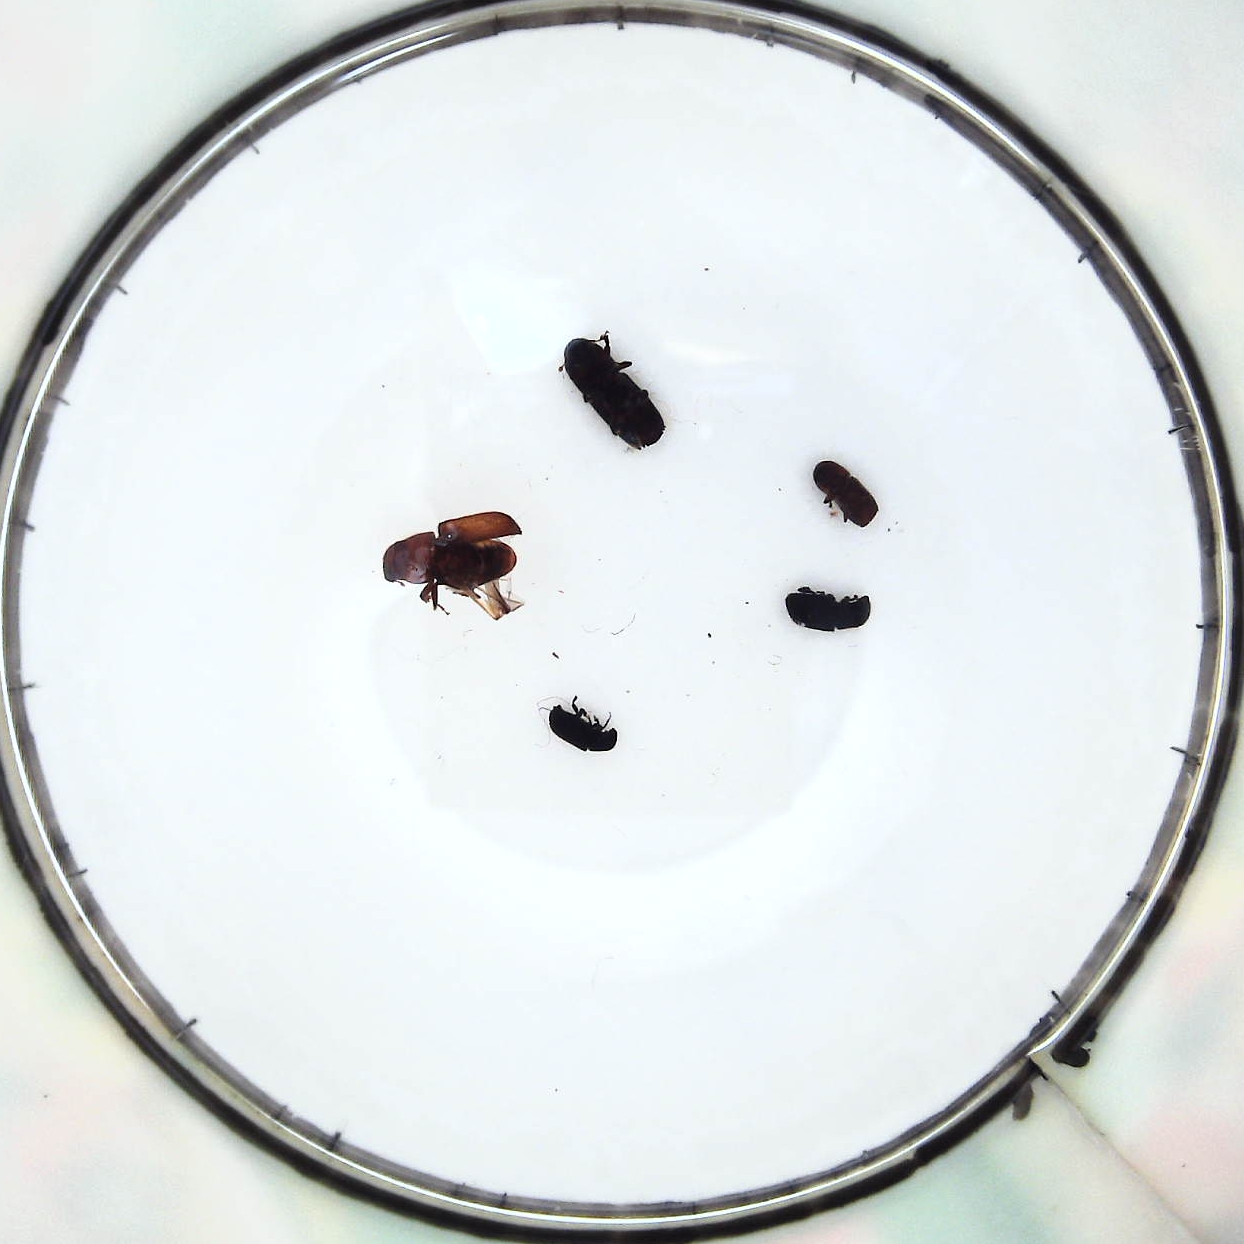Boerner: (560, 333, 666, 448)
Leconte: (378, 516, 522, 617)
Linnaeus: (815, 460, 871, 530)
armandi: (789, 587, 871, 635)
coleoptera: (545, 704, 609, 748)
